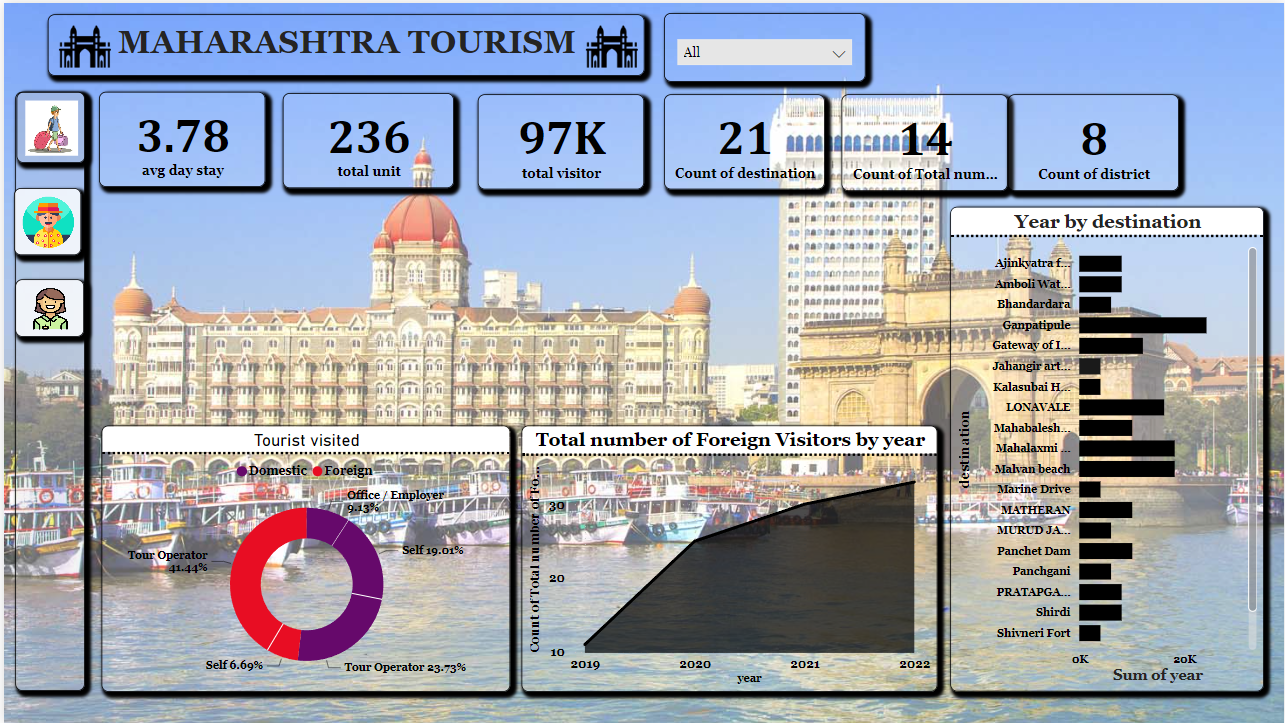

The dashboard page shown, as its layout file describes it:
{"tool":"powerbi","page":{"name":"Page 1","canvas":[1280,720],"ordinal":0},"visuals":[{"type":"textbox","box":[43.4,10.9,597,61.5],"z":0},{"type":"image","box":[43.4,12.1,74.8,61.5],"z":1000},{"type":"image","box":[568,12.1,80.8,61.5],"z":2000},{"type":"textbox","box":[10.9,89.2,69.9,599.4],"z":3000},{"type":"donutChart","title":"Tourist visited","fields":{"Category":["maharashtra tourism.tourist"],"Y":["maharashtra tourism.total visitor"],"Series":["maharashtra tourism.Travel Arrangement Mode"]},"box":[97.7,422.1,408.8,266.5],"z":6000},{"type":"image","box":[12.1,89.2,68.7,71.2],"z":7000},{"type":"image","box":[9.6,184.5,67.5,67.5],"z":8000},{"type":"image","box":[10.9,276.2,68.7,57.9],"z":9000},{"type":"barChart","title":"Year by destination","fields":{"Y":["Sum(maharashtra tourism.year)"],"Category":["maharashtra tourism.destination"]},"box":[946.7,203.8,313.6,484.8],"z":10000},{"type":"card","fields":{"Values":["maharashtra tourism.avg day stay"]},"box":[95.3,89.2,166.4,95.3],"z":11000},{"type":"card","fields":{"Values":["maharashtra tourism.total unit"]},"box":[278.6,90.5,171.3,95.3],"z":12000},{"type":"card","fields":{"Values":["maharashtra tourism.total visitor"]},"box":[474,91.7,166.4,95.3],"z":13000},{"type":"card","fields":{"Values":["Count(maharashtra tourism.destination)"]},"box":[659.7,91.7,160.4,95.3],"z":14000},{"type":"slicer","fields":{"Values":["maharashtra tourism.year"]},"box":[659.7,9.6,201.4,68.7],"z":15000},{"type":"card","fields":{"Values":["Count(maharashtra tourism.Total number of Foreign Visitors)"]},"box":[837,91.7,166.4,96.5],"z":16000},{"type":"card","fields":{"Values":["Count(maharashtra tourism.district)"]},"box":[1003.4,91.7,171.3,96.5],"z":17000},{"type":"areaChart","title":"Total number of Foreign Visitors by year","fields":{"Category":["maharashtra tourism.year"],"Y":["CountNonNull(maharashtra tourism.Total number of Foreign Visitors)"]},"box":[517.4,422.1,416.1,266.5],"z":18000}]}

Visuals, with their boxes in screenshot pixels (x1, y1, x2, y2), scaled from the page's 1280x720 canvas onto the 1285x723 screenshot:
textbox: l=44, t=11, r=643, b=73
image: l=44, t=12, r=119, b=74
image: l=570, t=12, r=651, b=74
textbox: l=11, t=90, r=81, b=691
"Tourist visited" donutChart: l=98, t=424, r=508, b=691
image: l=12, t=90, r=81, b=161
image: l=10, t=185, r=77, b=253
image: l=11, t=277, r=80, b=335
"Year by destination" barChart: l=950, t=205, r=1265, b=691
card - maharashtra tourism.avg day stay: l=96, t=90, r=263, b=185
card - maharashtra tourism.total unit: l=280, t=91, r=452, b=187
card - maharashtra tourism.total visitor: l=476, t=92, r=643, b=188
card - Count(maharashtra tourism.destination): l=662, t=92, r=823, b=188
slicer - maharashtra tourism.year: l=662, t=10, r=864, b=79
card - Count(maharashtra tourism.Total number of Foreign Visitors): l=840, t=92, r=1007, b=189
card - Count(maharashtra tourism.district): l=1007, t=92, r=1179, b=189
"Total number of Foreign Visitors by year" areaChart: l=519, t=424, r=937, b=691
